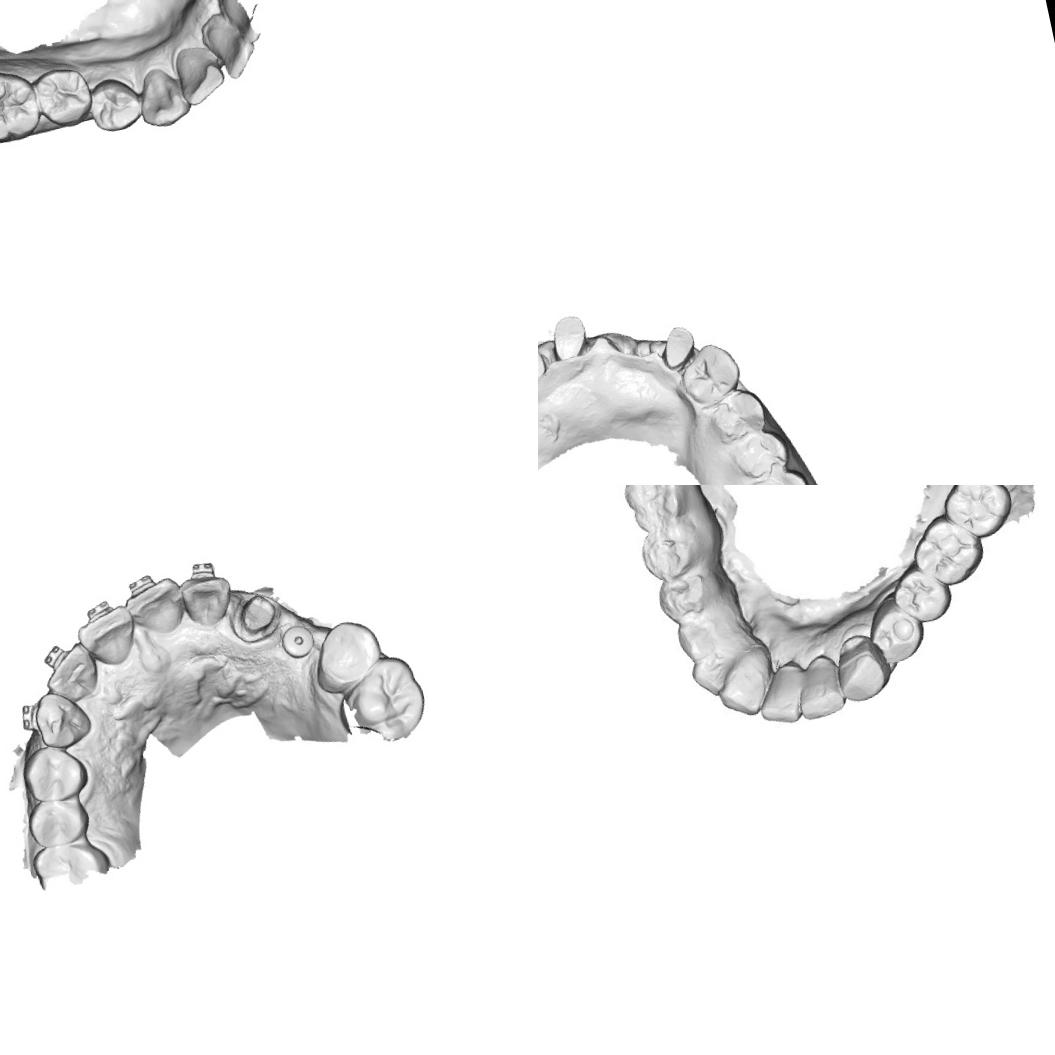canine: (673, 337, 748, 413), (25, 682, 96, 754), (673, 599, 748, 666), (131, 58, 196, 132), (832, 633, 893, 706)
crown: (542, 307, 605, 378), (229, 584, 290, 651), (654, 318, 708, 378), (538, 325, 554, 390)
implant: (270, 614, 320, 668)
incisor: (120, 566, 192, 643), (196, 7, 262, 86), (71, 602, 143, 673), (36, 640, 106, 710), (172, 564, 240, 632), (712, 652, 778, 722), (790, 655, 852, 724), (170, 39, 230, 109), (684, 643, 752, 701), (750, 664, 808, 730)
molar: (334, 650, 432, 746), (909, 512, 986, 588), (942, 485, 1020, 544), (0, 61, 47, 151), (614, 485, 692, 536), (744, 463, 823, 485)
premolar: (305, 613, 390, 700), (16, 737, 93, 810), (634, 515, 707, 588), (31, 60, 98, 134), (81, 69, 148, 137), (21, 792, 95, 853), (890, 562, 958, 628), (707, 383, 770, 451), (866, 598, 928, 667), (652, 566, 720, 626), (726, 424, 790, 484)
